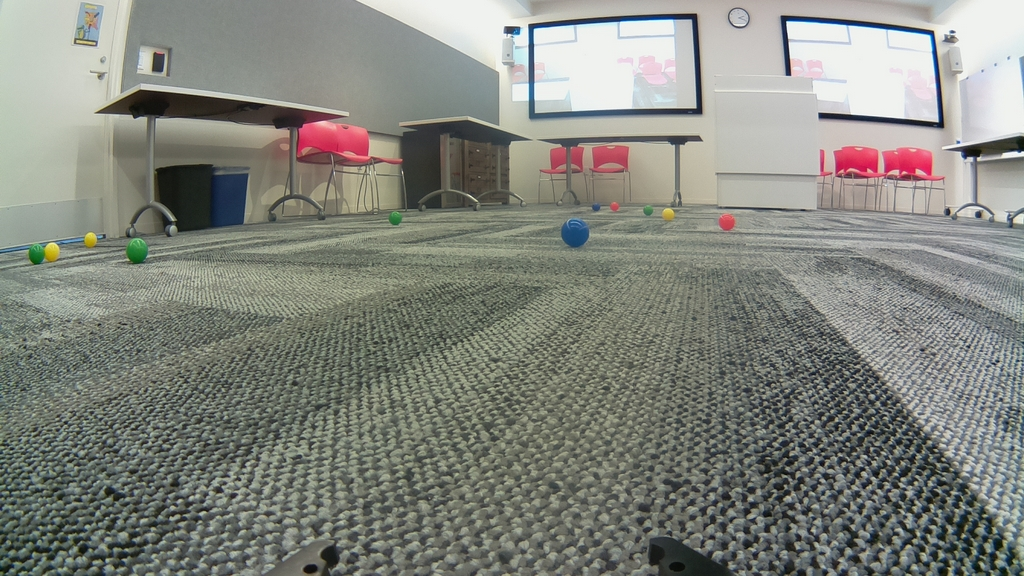ball: (661, 209, 676, 220)
